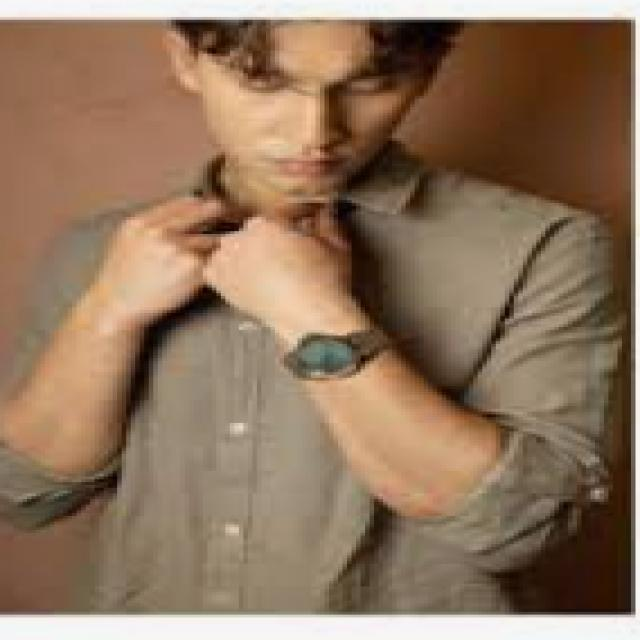Watch: (285, 323, 395, 388)
